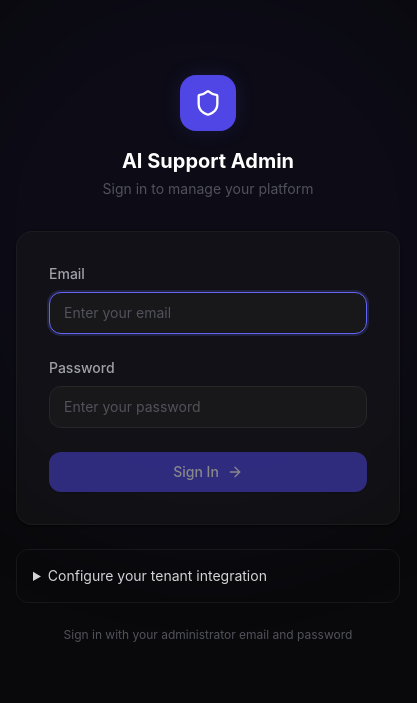
Test case: Admin login › shows a generic error and allows retrying after failed login
In the field labelled "Email": (208, 313) [49,292,367,334], type "admin@example.com"
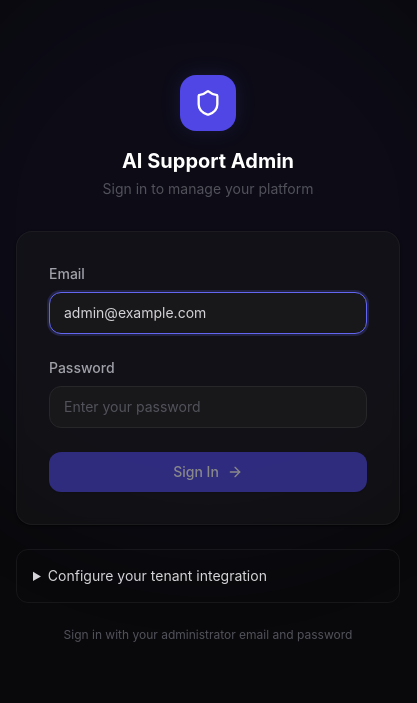
In the password field labelled "Password": (208, 407) [49,386,367,428], type "wrong-password"
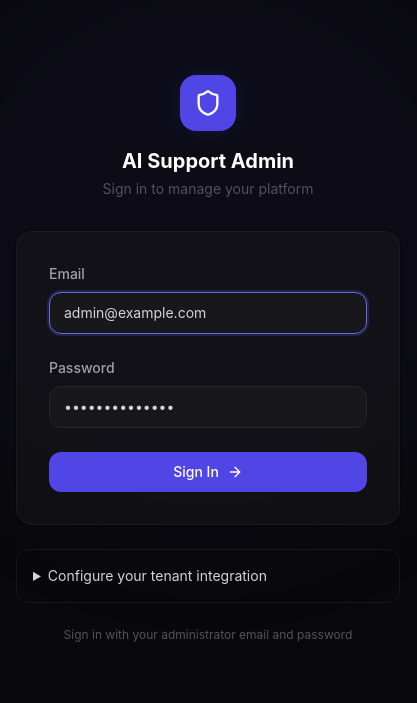
Click the button "Sign In": (208, 472) [49,452,367,492]
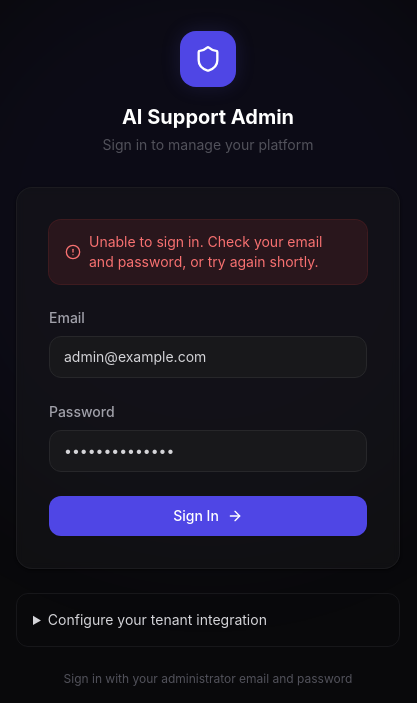
Check: the button "Sign In" is enabled, box [49,496,367,536]
Check: the message shows "Check your email and password", box [89,233,322,270]
